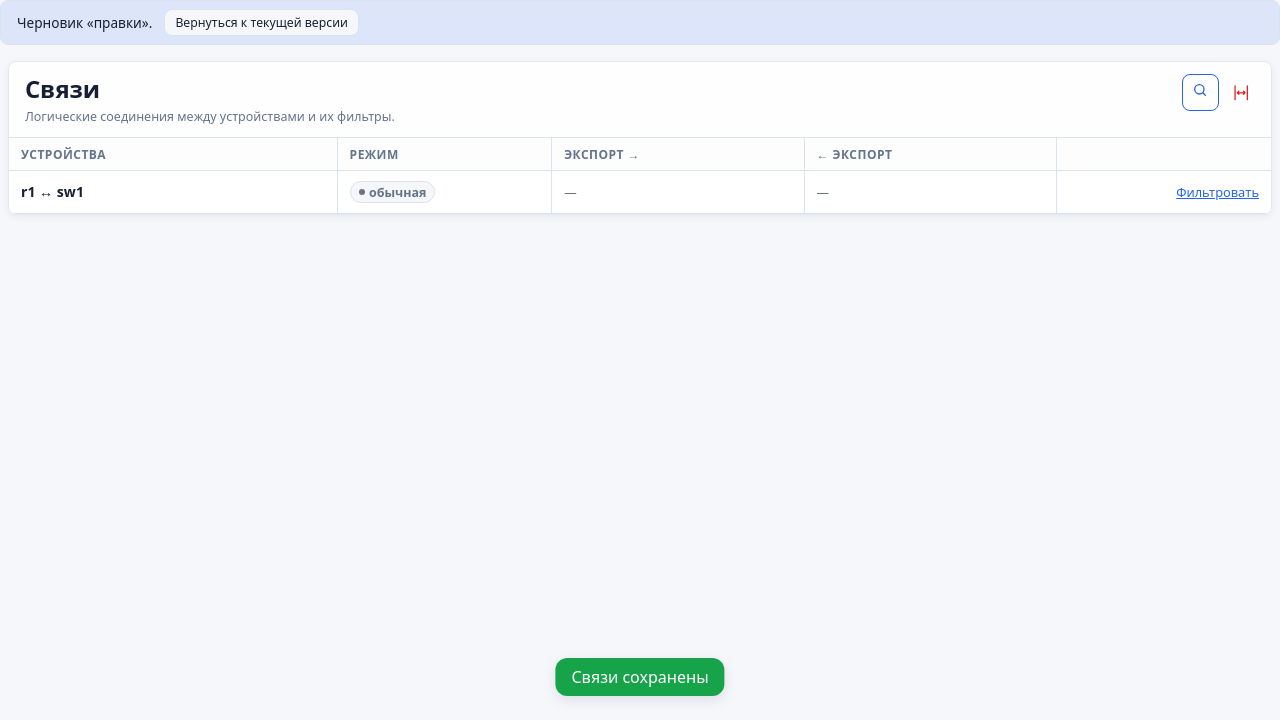
Test: LinksPage › loads export candidates for both sides by device pair
Check: the text "r1 ↔ sw1" is shown, box 9,170 -> 337,213
Click the button titled "Сделать фильтрованной связь r1 ↔ sw1".
click(1218, 192)  # box 1176,183 -> 1259,201
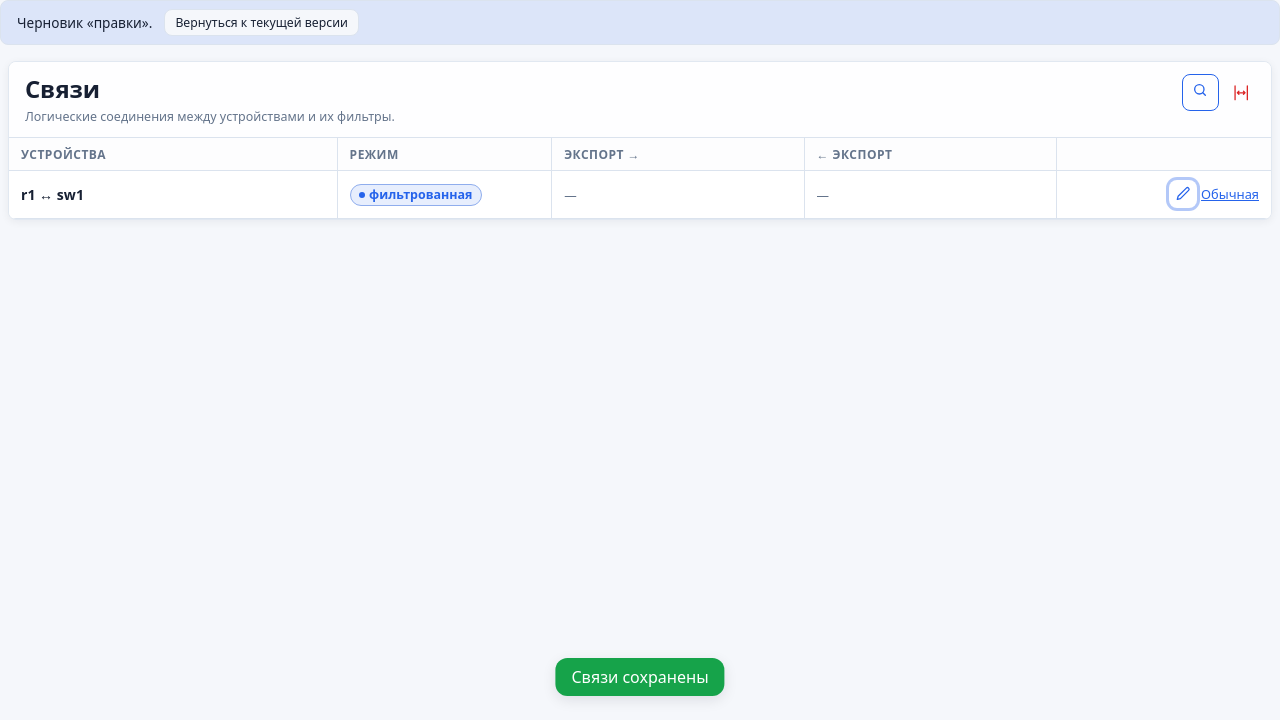
Check: the text "Связи сохранены" is shown, box 555,658 -> 725,696
Click the button titled "Изменить фильтр связи r1 ↔ sw1".
click(1183, 194)  # box 1169,180 -> 1197,208
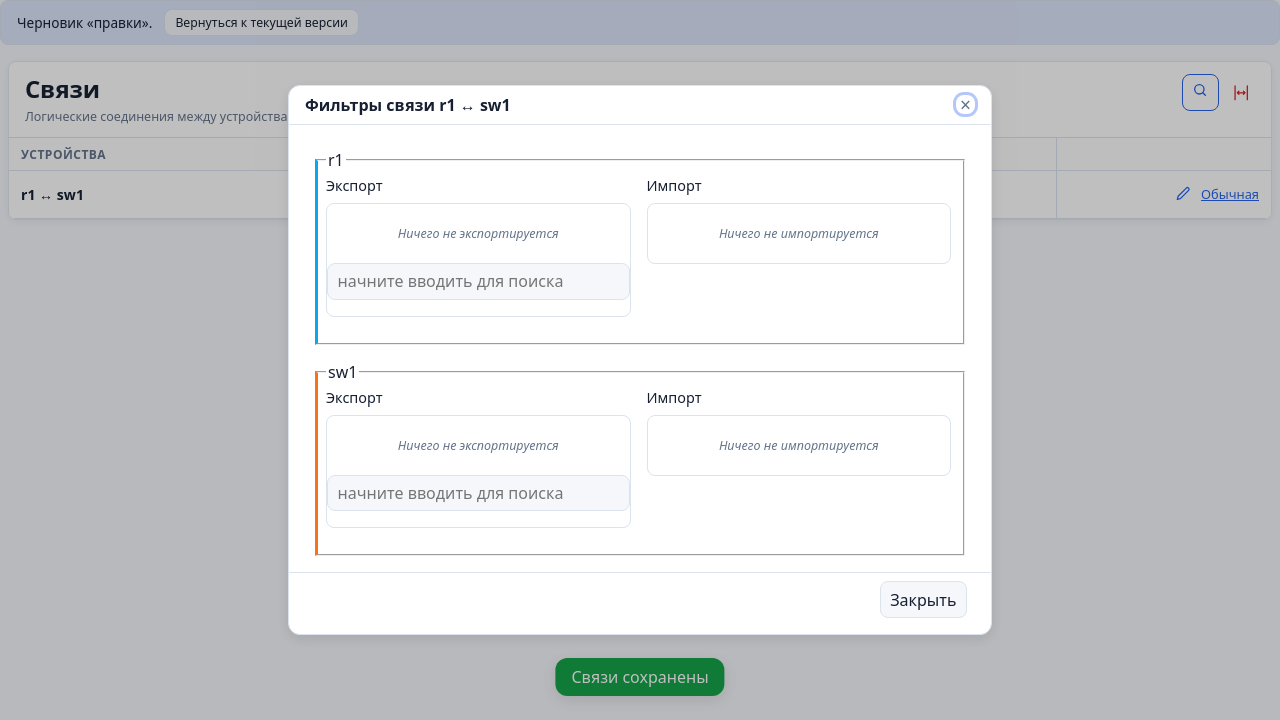
Check: the text "Экспорт" is shown 2 times, box 326,176 -> 383,195; 326,388 -> 383,407
